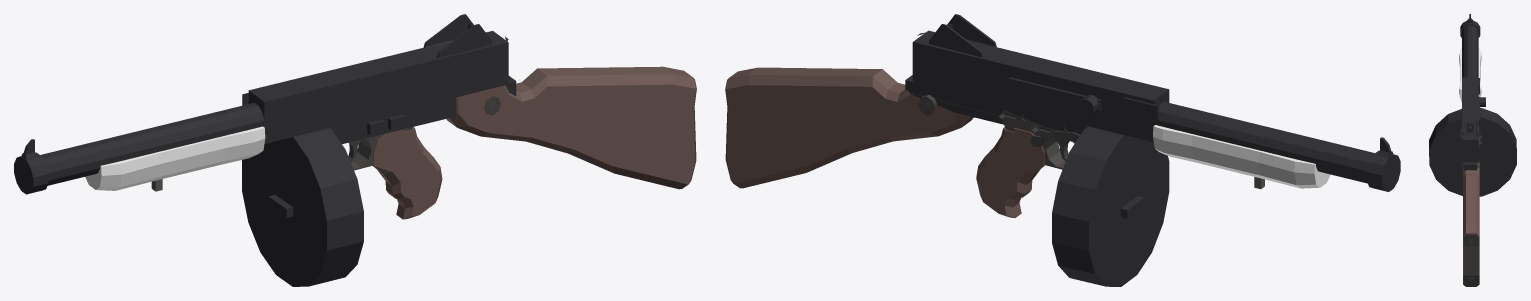
Rendered from thompson.glb.
The picture shows the model from 3 angles, left to right: view 1: azimuth 30°, elevation 25°; view 2: azimuth 150°, elevation 25°; view 3: azimuth 270°, elevation 25°; orthographic projection. The views are drawn at different scales.
Visible parts, largest first — view 1: Thompson Sub Machinegun; view 2: Thompson Sub Machinegun; view 3: Thompson Sub Machinegun.
Boxes of the visible parts, x1,y1,x2,y2 form: Thompson Sub Machinegun: [14, 14, 696, 286]; Thompson Sub Machinegun: [725, 14, 1400, 286]; Thompson Sub Machinegun: [1429, 14, 1516, 286].
Size of the model in its own units: 0.7975 by 0.2488 by 0.1725.
